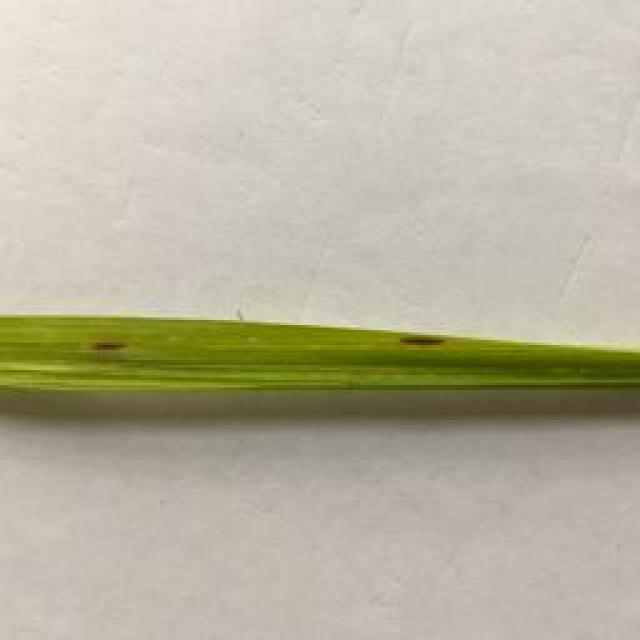Brown_Spot: (403, 330, 456, 358), (89, 330, 134, 357)
